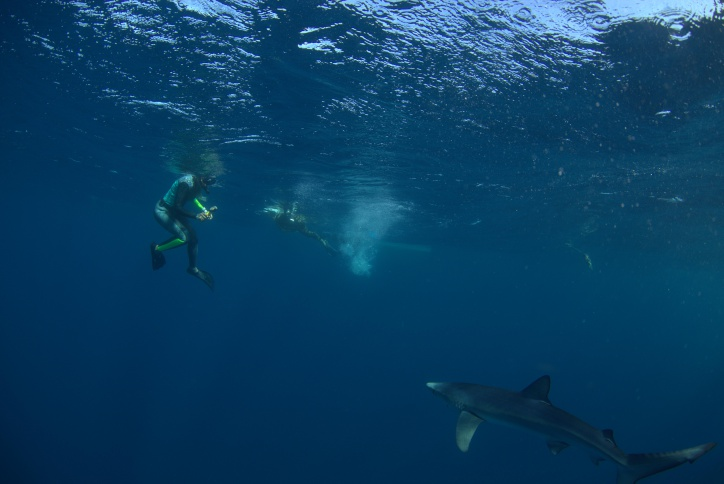Azul: (396, 350, 705, 484)
